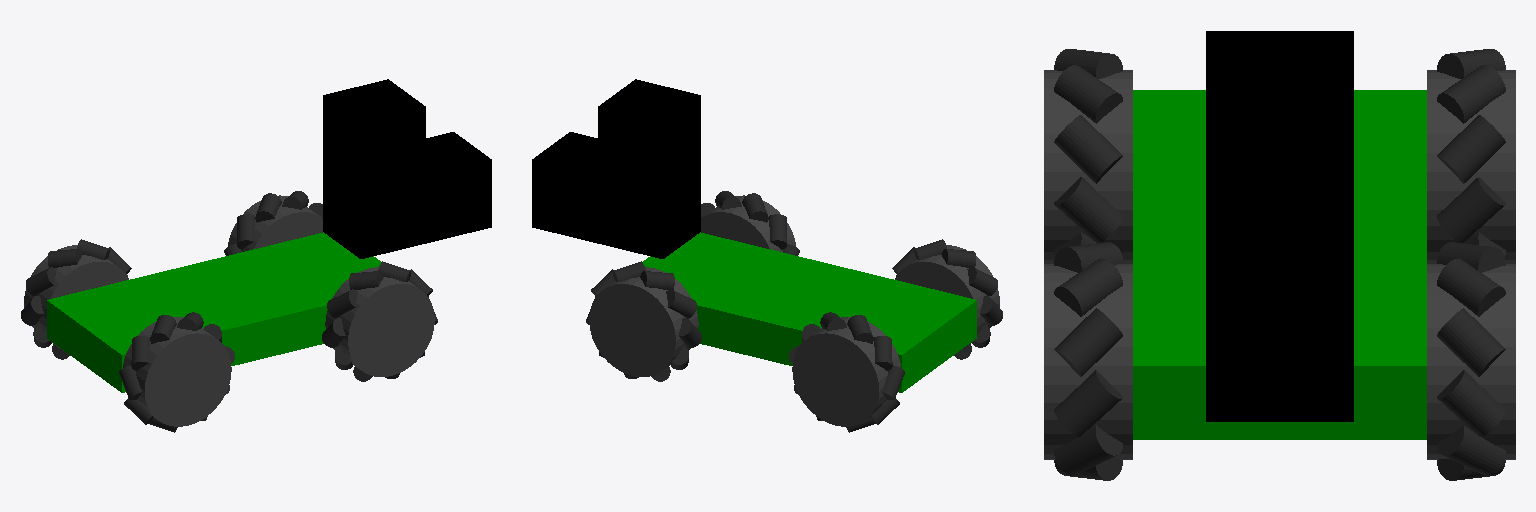
--- Facts derived from the render (not from the file) ---
3 views of the same robot in one strip: view 1: azimuth 30°, elevation 25°; view 2: azimuth 150°, elevation 25°; view 3: azimuth 270°, elevation 25° (orthographic).
Model omni_robot with 48 links and 47 joints (44 continuous, 3 fixed), rooted at base_link, posed every joint at zero.
Links seen in each view (by area): view 1: base_link, cam_up, BR_wheel, FR_wheel, cam, cam_dir, BL_wheel, FL_wheel, FR_roller_1, BL_roller_1, FL_roller_1, BR_roller_1 (+2 smaller); view 2: base_link, cam_up, BL_wheel, FL_wheel, cam, cam_dir, BR_wheel, FR_wheel, FL_roller_1, BR_roller_1, FR_roller_1, BL_roller_1 (+2 smaller); view 3: base_link, cam_up, cam_dir, FR_wheel, FL_wheel, BR_wheel, BL_wheel, BR_roller_4, BL_roller_4, FR_roller_5, FL_roller_5, FR_roller_4 (+15 smaller).
Boxes of the visible links, left/top/right/bottom form: base_link: left=47, top=232, right=380, bottom=392; cam_up: left=323, top=79, right=425, bottom=190; BR_wheel: left=123, top=317, right=231, bottom=426; FR_wheel: left=325, top=267, right=434, bottom=376; cam: left=323, top=164, right=425, bottom=258; cam_dir: left=426, top=132, right=491, bottom=243; BL_wheel: left=24, top=245, right=128, bottom=350; FL_wheel: left=228, top=195, right=322, bottom=251; FR_roller_1: left=327, top=289, right=357, bottom=318; BL_roller_1: left=26, top=267, right=56, bottom=295; FL_roller_1: left=237, top=214, right=255, bottom=249; BR_roller_1: left=131, top=336, right=149, bottom=370; base_link: left=643, top=232, right=976, bottom=392; cam_up: left=598, top=79, right=700, bottom=190; BL_wheel: left=792, top=317, right=900, bottom=426; FL_wheel: left=589, top=267, right=698, bottom=376; cam: left=598, top=164, right=700, bottom=258; cam_dir: left=532, top=132, right=597, bottom=243; BR_wheel: left=895, top=245, right=999, bottom=350; FR_wheel: left=701, top=195, right=795, bottom=251; FL_roller_1: left=666, top=289, right=696, bottom=318; BR_roller_1: left=967, top=267, right=997, bottom=295; FR_roller_1: left=768, top=214, right=786, bottom=249; BL_roller_1: left=874, top=336, right=892, bottom=370; base_link: left=1133, top=90, right=1426, bottom=439; cam_up: left=1206, top=31, right=1353, bottom=226; cam_dir: left=1206, top=227, right=1353, bottom=421; FR_wheel: left=1044, top=264, right=1132, bottom=459; FL_wheel: left=1427, top=264, right=1515, bottom=459; BR_wheel: left=1044, top=70, right=1132, bottom=263; BL_wheel: left=1427, top=70, right=1515, bottom=263; BR_roller_4: left=1054, top=115, right=1122, bottom=183; BL_roller_4: left=1437, top=115, right=1505, bottom=183; FR_roller_5: left=1054, top=370, right=1122, bottom=436; FL_roller_5: left=1437, top=370, right=1505, bottom=436; FR_roller_4: left=1054, top=308, right=1122, bottom=376.
Bounding box of the posed robot: 0.2735 × 0.144 × 0.1514 m (x, y, z).
Geometry: primitives only (box / cylinder / sphere), no mesh files.

robot.urdf — omni_robot:
<?xml version="1.0" ?>
<robot name="omni_robot">
  <material name="green">
    <color rgba="0.0 0.6 0.0 1"/>
  </material>
  <material name="blue">
    <color rgba="0.0 0.0 0.5 1"/>
  </material>
  <material name="transp">
    <color rgba="0.0 0.0 0.0 0"/>
  </material>
  <link name="base_link">
    <visual>
      <geometry>
        <box size="0.2 0.09 0.025"/>
      </geometry>
      <material name="green"/>
    </visual>
    <collision>
      <geometry>
        <box size="0.2 0.09 0.025"/>
      </geometry>
      <contact_coefficients mu="0.5"/>
    </collision>
    <inertial>
      <mass value="0.451"/>
      <inertia ixx="0.00032791458333333336" ixy="0.0" ixz="0.0" iyy="0.001526822916666667" iyz="0.0" izz="0.0018077583333333336"/>
    </inertial>
  </link>
  <link name="cam">
    <visual>
      <geometry>
        <box size="0.045 0.045 0.045"/>
      </geometry>
      <material name="transp"/>
    </visual>
    <inertial>
      <mass value="0.0"/>
      <inertia ixx="0.0" ixy="0.0" ixz="0.0" iyy="0.0" iyz="0.0" izz="0.0"/>
    </inertial>
  </link>
  <link name="cam_dir">
    <visual>
      <geometry>
        <box size="0.045 0.045 0.045"/>
      </geometry>
      <material name="transp"/>
    </visual>
    <inertial>
      <mass value="0.0"/>
      <inertia ixx="0.0" ixy="0.0" ixz="0.0" iyy="0.0" iyz="0.0" izz="0.0"/>
    </inertial>
  </link>
  <link name="cam_up">
    <visual>
      <geometry>
        <box size="0.045 0.045 0.045"/>
      </geometry>
      <material name="transp"/>
    </visual>
    <inertial>
      <mass value="0.0"/>
      <inertia ixx="0.0" ixy="0.0" ixz="0.0" iyy="0.0" iyz="0.0" izz="0.0"/>
    </inertial>
  </link>
  <joint name="base_link_to_cam" type="fixed">
    <parent link="base_link"/>
    <child link="cam"/>
    <origin xyz="0.1 0.0 0.0475"/>
  </joint>
  <!--A little trick to compute the view matrix in the simulation-->
  <joint name="cam_to_cam_dir" type="fixed">
    <parent link="cam"/>
    <child link="cam_dir"/>
    <origin xyz="0.045 0 0"/>
  </joint>
  <joint name="cam_to_cam_up" type="fixed">
    <parent link="cam"/>
    <child link="cam_up"/>
    <origin xyz="0 0 0.045"/>
  </joint>
  <material name="gray">
    <color rgba="0.2 0.2 0.2 1"/>
  </material>
  <material name="light_gray">
    <color rgba="0.3 0.3 0.3 1"/>
  </material>
  <link name="FR_wheel">
    <visual>
      <geometry>
        <cylinder length="0.027" radius="0.03"/>
      </geometry>
      <material name="light_gray"/>
      <origin rpy="0 0 0" xyz="0 0 0"/>
    </visual>
    <collision>
      <geometry>
        <cylinder length="0.027" radius="0.03"/>
      </geometry>
      <origin rpy="0 0.0 0" xyz="0 0 0"/>
      <contact_coefficients kd="0.5" mu="0.0"/>
    </collision>
    <inertial>
      <mass value="0.022"/>
      <inertia ixx="6.286500000000001e-06" ixy="0.0" ixz="0.0" iyy="6.286500000000001e-06" iyz="0.0" izz="9.899999999999998e-06"/>
    </inertial>
  </link>
  <link name="FR_roller_0">
    <visual>
      <geometry>
        <cylinder length="0.018" radius="0.006"/>
      </geometry>
      <material name="gray"/>
      <origin rpy="0.7853981633974483 0.0 0.0" xyz="0.0 0.0 0.0"/>
    </visual>
    <collision>
      <geometry>
        <cylinder length="0.018" radius="0.006"/>
      </geometry>
      <origin rpy="0.7853981633974483 0.0 0.0" xyz="0.0 0.0 0.0"/>
      <contact_coefficients kd="0.2" mu="0.5"/>
    </collision>
    <inertial>
      <mass value="0.0015"/>
      <inertia ixx="5.4e-08" ixy="0.0" ixz="0.0" iyy="5.4e-08" iyz="0.0" izz="2.7e-08"/>
    </inertial>
  </link>
  <joint name="FR_wheel_to_FR_roller_0" type="continuous">
    <parent link="FR_wheel"/>
    <child link="FR_roller_0"/>
    <origin rpy="0.0 0.0 0.0" xyz="0.03 0.0 0.0"/>
    <axis xyz="0 0.7071067811865476 -0.7071067811865476"/>
  </joint>
  <link name="FR_roller_1">
    <visual>
      <geometry>
        <cylinder length="0.018" radius="0.006"/>
      </geometry>
      <material name="gray"/>
      <origin rpy="0.7853981633974483 0.0 0.0" xyz="0.0 0.0 0.0"/>
    </visual>
    <collision>
      <geometry>
        <cylinder length="0.018" radius="0.006"/>
      </geometry>
      <origin rpy="0.7853981633974483 0.0 0.0" xyz="0.0 0.0 0.0"/>
      <contact_coefficients kd="0.2" mu="0.5"/>
    </collision>
    <inertial>
      <mass value="0.0015"/>
      <inertia ixx="5.4e-08" ixy="0.0" ixz="0.0" iyy="5.4e-08" iyz="0.0" izz="2.7e-08"/>
    </inertial>
  </link>
  <joint name="FR_wheel_to_FR_roller_1" type="continuous">
    <parent link="FR_wheel"/>
    <child link="FR_roller_1"/>
    <origin rpy="0.0 0.0 0.6283185307179586" xyz="0.024270509831248423 0.017633557568774192 0.0"/>
    <axis xyz="0 0.7071067811865476 -0.7071067811865476"/>
  </joint>
  <link name="FR_roller_2">
    <visual>
      <geometry>
        <cylinder length="0.018" radius="0.006"/>
      </geometry>
      <material name="gray"/>
      <origin rpy="0.7853981633974483 0.0 0.0" xyz="0.0 0.0 0.0"/>
    </visual>
    <collision>
      <geometry>
        <cylinder length="0.018" radius="0.006"/>
      </geometry>
      <origin rpy="0.7853981633974483 0.0 0.0" xyz="0.0 0.0 0.0"/>
      <contact_coefficients kd="0.2" mu="0.5"/>
    </collision>
    <inertial>
      <mass value="0.0015"/>
      <inertia ixx="5.4e-08" ixy="0.0" ixz="0.0" iyy="5.4e-08" iyz="0.0" izz="2.7e-08"/>
    </inertial>
  </link>
  <joint name="FR_wheel_to_FR_roller_2" type="continuous">
    <parent link="FR_wheel"/>
    <child link="FR_roller_2"/>
    <origin rpy="0.0 0.0 1.2566370614359172" xyz="0.009270509831248424 0.028531695488854605 0.0"/>
    <axis xyz="0 0.7071067811865476 -0.7071067811865476"/>
  </joint>
  <link name="FR_roller_3">
    <visual>
      <geometry>
        <cylinder length="0.018" radius="0.006"/>
      </geometry>
      <material name="gray"/>
      <origin rpy="0.7853981633974483 0.0 0.0" xyz="0.0 0.0 0.0"/>
    </visual>
    <collision>
      <geometry>
        <cylinder length="0.018" radius="0.006"/>
      </geometry>
      <origin rpy="0.7853981633974483 0.0 0.0" xyz="0.0 0.0 0.0"/>
      <contact_coefficients kd="0.2" mu="0.5"/>
    </collision>
    <inertial>
      <mass value="0.0015"/>
      <inertia ixx="5.4e-08" ixy="0.0" ixz="0.0" iyy="5.4e-08" iyz="0.0" izz="2.7e-08"/>
    </inertial>
  </link>
  <joint name="FR_wheel_to_FR_roller_3" type="continuous">
    <parent link="FR_wheel"/>
    <child link="FR_roller_3"/>
    <origin rpy="0.0 0.0 1.8849555921538759" xyz="-0.00927050983124842 0.02853169548885461 0.0"/>
    <axis xyz="0 0.7071067811865476 -0.7071067811865476"/>
  </joint>
  <link name="FR_roller_4">
    <visual>
      <geometry>
        <cylinder length="0.018" radius="0.006"/>
      </geometry>
      <material name="gray"/>
      <origin rpy="0.7853981633974483 0.0 0.0" xyz="0.0 0.0 0.0"/>
    </visual>
    <collision>
      <geometry>
        <cylinder length="0.018" radius="0.006"/>
      </geometry>
      <origin rpy="0.7853981633974483 0.0 0.0" xyz="0.0 0.0 0.0"/>
      <contact_coefficients kd="0.2" mu="0.5"/>
    </collision>
    <inertial>
      <mass value="0.0015"/>
      <inertia ixx="5.4e-08" ixy="0.0" ixz="0.0" iyy="5.4e-08" iyz="0.0" izz="2.7e-08"/>
    </inertial>
  </link>
  <joint name="FR_wheel_to_FR_roller_4" type="continuous">
    <parent link="FR_wheel"/>
    <child link="FR_roller_4"/>
    <origin rpy="0.0 0.0 2.5132741228718345" xyz="-0.02427050983124842 0.017633557568774196 0.0"/>
    <axis xyz="0 0.7071067811865476 -0.7071067811865476"/>
  </joint>
  <link name="FR_roller_5">
    <visual>
      <geometry>
        <cylinder length="0.018" radius="0.006"/>
      </geometry>
      <material name="gray"/>
      <origin rpy="0.7853981633974483 0.0 0.0" xyz="0.0 0.0 0.0"/>
    </visual>
    <collision>
      <geometry>
        <cylinder length="0.018" radius="0.006"/>
      </geometry>
      <origin rpy="0.7853981633974483 0.0 0.0" xyz="0.0 0.0 0.0"/>
      <contact_coefficients kd="0.2" mu="0.5"/>
    </collision>
    <inertial>
      <mass value="0.0015"/>
      <inertia ixx="5.4e-08" ixy="0.0" ixz="0.0" iyy="5.4e-08" iyz="0.0" izz="2.7e-08"/>
    </inertial>
  </link>
  <joint name="FR_wheel_to_FR_roller_5" type="continuous">
    <parent link="FR_wheel"/>
    <child link="FR_roller_5"/>
    <origin rpy="0.0 0.0 3.141592653589793" xyz="-0.03 3.673940397442059e-18 0.0"/>
    <axis xyz="0 0.7071067811865476 -0.7071067811865476"/>
  </joint>
  <link name="FR_roller_6">
    <visual>
      <geometry>
        <cylinder length="0.018" radius="0.006"/>
      </geometry>
      <material name="gray"/>
      <origin rpy="0.7853981633974483 0.0 0.0" xyz="0.0 0.0 0.0"/>
    </visual>
    <collision>
      <geometry>
        <cylinder length="0.018" radius="0.006"/>
      </geometry>
      <origin rpy="0.7853981633974483 0.0 0.0" xyz="0.0 0.0 0.0"/>
      <contact_coefficients kd="0.2" mu="0.5"/>
    </collision>
    <inertial>
      <mass value="0.0015"/>
      <inertia ixx="5.4e-08" ixy="0.0" ixz="0.0" iyy="5.4e-08" iyz="0.0" izz="2.7e-08"/>
    </inertial>
  </link>
  <joint name="FR_wheel_to_FR_roller_6" type="continuous">
    <parent link="FR_wheel"/>
    <child link="FR_roller_6"/>
    <origin rpy="0.0 0.0 3.7699111843077517" xyz="-0.024270509831248423 -0.01763355756877419 0.0"/>
    <axis xyz="0 0.7071067811865476 -0.7071067811865476"/>
  </joint>
  <link name="FR_roller_7">
    <visual>
      <geometry>
        <cylinder length="0.018" radius="0.006"/>
      </geometry>
      <material name="gray"/>
      <origin rpy="0.7853981633974483 0.0 0.0" xyz="0.0 0.0 0.0"/>
    </visual>
    <collision>
      <geometry>
        <cylinder length="0.018" radius="0.006"/>
      </geometry>
      <origin rpy="0.7853981633974483 0.0 0.0" xyz="0.0 0.0 0.0"/>
      <contact_coefficients kd="0.2" mu="0.5"/>
    </collision>
    <inertial>
      <mass value="0.0015"/>
      <inertia ixx="5.4e-08" ixy="0.0" ixz="0.0" iyy="5.4e-08" iyz="0.0" izz="2.7e-08"/>
    </inertial>
  </link>
  <joint name="FR_wheel_to_FR_roller_7" type="continuous">
    <parent link="FR_wheel"/>
    <child link="FR_roller_7"/>
    <origin rpy="0.0 0.0 4.39822971502571" xyz="-0.009270509831248426 -0.028531695488854605 0.0"/>
    <axis xyz="0 0.7071067811865476 -0.7071067811865476"/>
  </joint>
  <link name="FR_roller_8">
    <visual>
      <geometry>
        <cylinder length="0.018" radius="0.006"/>
      </geometry>
      <material name="gray"/>
      <origin rpy="0.7853981633974483 0.0 0.0" xyz="0.0 0.0 0.0"/>
    </visual>
    <collision>
      <geometry>
        <cylinder length="0.018" radius="0.006"/>
      </geometry>
      <origin rpy="0.7853981633974483 0.0 0.0" xyz="0.0 0.0 0.0"/>
      <contact_coefficients kd="0.2" mu="0.5"/>
    </collision>
    <inertial>
      <mass value="0.0015"/>
      <inertia ixx="5.4e-08" ixy="0.0" ixz="0.0" iyy="5.4e-08" iyz="0.0" izz="2.7e-08"/>
    </inertial>
  </link>
  <joint name="FR_wheel_to_FR_roller_8" type="continuous">
    <parent link="FR_wheel"/>
    <child link="FR_roller_8"/>
    <origin rpy="0.0 0.0 5.026548245743669" xyz="0.009270509831248417 -0.02853169548885461 0.0"/>
    <axis xyz="0 0.7071067811865476 -0.7071067811865476"/>
  </joint>
  <link name="FR_roller_9">
    <visual>
      <geometry>
        <cylinder length="0.018" radius="0.006"/>
      </geometry>
      <material name="gray"/>
      <origin rpy="0.7853981633974483 0.0 0.0" xyz="0.0 0.0 0.0"/>
    </visual>
    <collision>
      <geometry>
        <cylinder length="0.018" radius="0.006"/>
      </geometry>
      <origin rpy="0.7853981633974483 0.0 0.0" xyz="0.0 0.0 0.0"/>
      <contact_coefficients kd="0.2" mu="0.5"/>
    </collision>
    <inertial>
      <mass value="0.0015"/>
      <inertia ixx="5.4e-08" ixy="0.0" ixz="0.0" iyy="5.4e-08" iyz="0.0" izz="2.7e-08"/>
    </inertial>
  </link>
  <joint name="FR_wheel_to_FR_roller_9" type="continuous">
    <parent link="FR_wheel"/>
    <child link="FR_roller_9"/>
    <origin rpy="0.0 0.0 5.654866776461628" xyz="0.02427050983124842 -0.0176335575687742 0.0"/>
    <axis xyz="0 0.7071067811865476 -0.7071067811865476"/>
  </joint>
  <joint name="base_link_to_FR_wheel" type="continuous">
    <parent link="base_link"/>
    <child link="FR_wheel"/>
    <origin rpy="1.5707963267948966 0.0 3.141592653589793" xyz="0.07 -0.058499999999999996 0.0"/>
    <axis xyz="0 0 1"/>
  </joint>
  <link name="FL_wheel">
    <visual>
      <geometry>
        <cylinder length="0.027" radius="0.03"/>
      </geometry>
      <material name="light_gray"/>
      <origin rpy="0 0 0" xyz="0 0 0"/>
    </visual>
    <collision>
      <geometry>
        <cylinder length="0.027" radius="0.03"/>
      </geometry>
      <origin rpy="0 0.0 0" xyz="0 0 0"/>
      <contact_coefficients kd="0.5" mu="0.0"/>
    </collision>
    <inertial>
      <mass value="0.022"/>
      <inertia ixx="6.286500000000001e-06" ixy="0.0" ixz="0.0" iyy="6.286500000000001e-06" iyz="0.0" izz="9.899999999999998e-06"/>
    </inertial>
  </link>
  <link name="FL_roller_0">
    <visual>
      <geometry>
        <cylinder length="0.018" radius="0.006"/>
      </geometry>
      <material name="gray"/>
      <origin rpy="-0.7853981633974483 0.0 0.0" xyz="0.0 0.0 0.0"/>
    </visual>
    <collision>
      <geometry>
        <cylinder length="0.018" radius="0.006"/>
      </geometry>
      <origin rpy="-0.7853981633974483 0.0 0.0" xyz="0.0 0.0 0.0"/>
      <contact_coefficients kd="0.2" mu="0.5"/>
    </collision>
    <inertial>
      <mass value="0.0015"/>
      <inertia ixx="5.4e-08" ixy="0.0" ixz="0.0" iyy="5.4e-08" iyz="0.0" izz="2.7e-08"/>
    </inertial>
  </link>
  <joint name="FL_wheel_to_FL_roller_0" type="continuous">
    <parent link="FL_wheel"/>
    <child link="FL_roller_0"/>
    <origin rpy="0.0 0.0 0.0" xyz="0.03 0.0 0.0"/>
    <axis xyz="0 0.7071067811865476 0.7071067811865476"/>
  </joint>
  <link name="FL_roller_1">
    <visual>
      <geometry>
        <cylinder length="0.018" radius="0.006"/>
      </geometry>
      <material name="gray"/>
      <origin rpy="-0.7853981633974483 0.0 0.0" xyz="0.0 0.0 0.0"/>
    </visual>
    <collision>
      <geometry>
        <cylinder length="0.018" radius="0.006"/>
      </geometry>
      <origin rpy="-0.7853981633974483 0.0 0.0" xyz="0.0 0.0 0.0"/>
      <contact_coefficients kd="0.2" mu="0.5"/>
    </collision>
    <inertial>
      <mass value="0.0015"/>
      <inertia ixx="5.4e-08" ixy="0.0" ixz="0.0" iyy="5.4e-08" iyz="0.0" izz="2.7e-08"/>
    </inertial>
  </link>
  <joint name="FL_wheel_to_FL_roller_1" type="continuous">
    <parent link="FL_wheel"/>
    <child link="FL_roller_1"/>
    <origin rpy="0.0 0.0 0.6283185307179586" xyz="0.024270509831248423 0.017633557568774192 0.0"/>
    <axis xyz="0 0.7071067811865476 0.7071067811865476"/>
  </joint>
  <link name="FL_roller_2">
    <visual>
      <geometry>
        <cylinder length="0.018" radius="0.006"/>
      </geometry>
      <material name="gray"/>
      <origin rpy="-0.7853981633974483 0.0 0.0" xyz="0.0 0.0 0.0"/>
    </visual>
    <collision>
      <geometry>
        <cylinder length="0.018" radius="0.006"/>
      </geometry>
      <origin rpy="-0.7853981633974483 0.0 0.0" xyz="0.0 0.0 0.0"/>
      <contact_coefficients kd="0.2" mu="0.5"/>
    </collision>
    <inertial>
      <mass value="0.0015"/>
      <inertia ixx="5.4e-08" ixy="0.0" ixz="0.0" iyy="5.4e-08" iyz="0.0" izz="2.7e-08"/>
    </inertial>
  </link>
  <joint name="FL_wheel_to_FL_roller_2" type="continuous">
    <parent link="FL_wheel"/>
    <child link="FL_roller_2"/>
    <origin rpy="0.0 0.0 1.2566370614359172" xyz="0.009270509831248424 0.028531695488854605 0.0"/>
    <axis xyz="0 0.7071067811865476 0.7071067811865476"/>
  </joint>
  <link name="FL_roller_3">
    <visual>
      <geometry>
        <cylinder length="0.018" radius="0.006"/>
      </geometry>
      <material name="gray"/>
      <origin rpy="-0.7853981633974483 0.0 0.0" xyz="0.0 0.0 0.0"/>
    </visual>
    <collision>
      <geometry>
        <cylinder length="0.018" radius="0.006"/>
      </geometry>
      <origin rpy="-0.7853981633974483 0.0 0.0" xyz="0.0 0.0 0.0"/>
      <contact_coefficients kd="0.2" mu="0.5"/>
    </collision>
    <inertial>
      <mass value="0.0015"/>
      <inertia ixx="5.4e-08" ixy="0.0" ixz="0.0" iyy="5.4e-08" iyz="0.0" izz="2.7e-08"/>
    </inertial>
  </link>
  <joint name="FL_wheel_to_FL_roller_3" type="continuous">
    <parent link="FL_wheel"/>
    <child link="FL_roller_3"/>
    <origin rpy="0.0 0.0 1.8849555921538759" xyz="-0.00927050983124842 0.02853169548885461 0.0"/>
    <axis xyz="0 0.7071067811865476 0.7071067811865476"/>
  </joint>
  <link name="FL_roller_4">
    <visual>
      <geometry>
        <cylinder length="0.018" radius="0.006"/>
      </geometry>
      <material name="gray"/>
      <origin rpy="-0.7853981633974483 0.0 0.0" xyz="0.0 0.0 0.0"/>
    </visual>
    <collision>
      <geometry>
        <cylinder length="0.018" radius="0.006"/>
      </geometry>
      <origin rpy="-0.7853981633974483 0.0 0.0" xyz="0.0 0.0 0.0"/>
      <contact_coefficients kd="0.2" mu="0.5"/>
    </collision>
    <inertial>
      <mass value="0.0015"/>
      <inertia ixx="5.4e-08" ixy="0.0" ixz="0.0" iyy="5.4e-08" iyz="0.0" izz="2.7e-08"/>
    </inertial>
  </link>
  <joint name="FL_wheel_to_FL_roller_4" type="continuous">
    <parent link="FL_wheel"/>
    <child link="FL_roller_4"/>
    <origin rpy="0.0 0.0 2.5132741228718345" xyz="-0.02427050983124842 0.017633557568774196 0.0"/>
    <axis xyz="0 0.7071067811865476 0.7071067811865476"/>
  </joint>
  <link name="FL_roller_5">
    <visual>
      <geometry>
        <cylinder length="0.018" radius="0.006"/>
      </geometry>
      <material name="gray"/>
      <origin rpy="-0.7853981633974483 0.0 0.0" xyz="0.0 0.0 0.0"/>
    </visual>
    <collision>
      <geometry>
        <cylinder length="0.018" radius="0.006"/>
      </geometry>
      <origin rpy="-0.7853981633974483 0.0 0.0" xyz="0.0 0.0 0.0"/>
      <contact_coefficients kd="0.2" mu="0.5"/>
    </collision>
    <inertial>
      <mass value="0.0015"/>
      <inertia ixx="5.4e-08" ixy="0.0" ixz="0.0" iyy="5.4e-08" iyz="0.0" izz="2.7e-08"/>
    </inertial>
  </link>
  <joint name="FL_wheel_to_FL_roller_5" type="continuous">
    <parent link="FL_wheel"/>
    <child link="FL_roller_5"/>
    <origin rpy="0.0 0.0 3.141592653589793" xyz="-0.03 3.673940397442059e-18 0.0"/>
    <axis xyz="0 0.7071067811865476 0.7071067811865476"/>
  </joint>
  <link name="FL_roller_6">
    <visual>
      <geometry>
        <cylinder length="0.018" radius="0.006"/>
      </geometry>
      <material name="gray"/>
      <origin rpy="-0.7853981633974483 0.0 0.0" xyz="0.0 0.0 0.0"/>
    </visual>
    <collision>
      <geometry>
        <cylinder length="0.018" radius="0.006"/>
      </geometry>
      <origin rpy="-0.7853981633974483 0.0 0.0" xyz="0.0 0.0 0.0"/>
      <contact_coefficients kd="0.2" mu="0.5"/>
    </collision>
    <inertial>
      <mass value="0.0015"/>
      <inertia ixx="5.4e-08" ixy="0.0" ixz="0.0" iyy="5.4e-08" iyz="0.0" izz="2.7e-08"/>
    </inertial>
  </link>
  <joint name="FL_wheel_to_FL_roller_6" type="continuous">
    <parent link="FL_wheel"/>
    <child link="FL_roller_6"/>
    <origin rpy="0.0 0.0 3.7699111843077517" xyz="-0.024270509831248423 -0.01763355756877419 0.0"/>
    <axis xyz="0 0.7071067811865476 0.7071067811865476"/>
  </joint>
  <link name="FL_roller_7">
    <visual>
      <geometry>
        <cylinder length="0.018" radius="0.006"/>
      </geometry>
      <material name="gray"/>
      <origin rpy="-0.7853981633974483 0.0 0.0" xyz="0.0 0.0 0.0"/>
    </visual>
    <collision>
      <geometry>
        <cylinder length="0.018" radius="0.006"/>
      </geometry>
      <origin rpy="-0.7853981633974483 0.0 0.0" xyz="0.0 0.0 0.0"/>
      <contact_coefficients kd="0.2" mu="0.5"/>
    </collision>
    <inertial>
      <mass value="0.0015"/>
      <inertia ixx="5.4e-08" ixy="0.0" ixz="0.0" iyy="5.4e-08" iyz="0.0" izz="2.7e-08"/>
    </inertial>
  </link>
  <joint name="FL_wheel_to_FL_roller_7" type="continuous">
    <parent link="FL_wheel"/>
    <child link="FL_roller_7"/>
    <origin rpy="0.0 0.0 4.39822971502571" xyz="-0.009270509831248426 -0.028531695488854605 0.0"/>
    <axis xyz="0 0.7071067811865476 0.7071067811865476"/>
  </joint>
  <link name="FL_roller_8">
    <visual>
      <geometry>
        <cylinder length="0.018" radius="0.006"/>
      </geometry>
      <material name="gray"/>
      <origin rpy="-0.7853981633974483 0.0 0.0" xyz="0.0 0.0 0.0"/>
    </visual>
    <collision>
      <geometry>
        <cylinder length="0.018" radius="0.006"/>
      </geometry>
      <origin rpy="-0.7853981633974483 0.0 0.0" xyz="0.0 0.0 0.0"/>
      <contact_coefficients kd="0.2" mu="0.5"/>
    </collision>
    <inertial>
      <mass value="0.0015"/>
      <inertia ixx="5.4e-08" ixy="0.0" ixz="0.0" iyy="5.4e-08" iyz="0.0" izz="2.7e-08"/>
    </inertial>
  </link>
  <joint name="FL_wheel_to_FL_roller_8" type="continuous">
    <parent link="FL_wheel"/>
    <child link="FL_roller_8"/>
    <origin rpy="0.0 0.0 5.026548245743669" xyz="0.009270509831248417 -0.02853169548885461 0.0"/>
    <axis xyz="0 0.7071067811865476 0.7071067811865476"/>
  </joint>
  <link name="FL_roller_9">
    <visual>
      <geometry>
        <cylinder length="0.018" radius="0.006"/>
      </geometry>
      <material name="gray"/>
      <origin rpy="-0.7853981633974483 0.0 0.0" xyz="0.0 0.0 0.0"/>
    </visual>
    <collision>
      <geometry>
        <cylinder length="0.018" radius="0.006"/>
      </geometry>
      <origin rpy="-0.7853981633974483 0.0 0.0" xyz="0.0 0.0 0.0"/>
      <contact_coefficients kd="0.2" mu="0.5"/>
    </collision>
    <inertial>
      <mass value="0.0015"/>
      <inertia ixx="5.4e-08" ixy="0.0" ixz="0.0" iyy="5.4e-08" iyz="0.0" izz="2.7e-08"/>
    </inertial>
  </link>
  <joint name="FL_wheel_to_FL_roller_9" type="continuous">
    <parent link="FL_wheel"/>
    <child link="FL_roller_9"/>
    <origin rpy="0.0 0.0 5.654866776461628" xyz="0.02427050983124842 -0.0176335575687742 0.0"/>
    <axis xyz="0 0.7071067811865476 0.7071067811865476"/>
  </joint>
  <joint name="base_link_to_FL_wheel" type="continuous">
    <parent link="base_link"/>
    <child link="FL_wheel"/>
    <origin rpy="1.5707963267948966 0.0 3.141592653589793" xyz="0.07 0.058499999999999996 0.0"/>
    <axis xyz="0 0 1"/>
  </joint>
  <link name="BR_wheel">
    <visual>
      <geometry>
        <cylinder length="0.027" radius="0.03"/>
      </geometry>
      <material name="light_gray"/>
      <origin rpy="0 0 0" xyz="0 0 0"/>
    </visual>
    <collision>
      <geometry>
        <cylinder length="0.027" radius="0.03"/>
      </geometry>
      <origin rpy="0 0.0 0" xyz="0 0 0"/>
      <contact_coefficients kd="0.5" mu="0.0"/>
    </collision>
    <inertial>
      <mass value="0.022"/>
      <inertia ixx="6.286500000000001e-06" ixy="0.0" ixz="0.0" iyy="6.286500000000001e-06" iyz="0.0" izz="9.899999999999998e-06"/>
    </inertial>
  </link>
  <link name="BR_roller_0">
    <visual>
      <geometry>
        <cylinder length="0.018" radius="0.006"/>
      </geometry>
      <material name="gray"/>
      <origin rpy="-0.7853981633974483 0.0 0.0" xyz="0.0 0.0 0.0"/>
    </visual>
    <collision>
      <geometry>
        <cylinder length="0.018" radius="0.006"/>
      </geometry>
      <origin rpy="-0.7853981633974483 0.0 0.0" xyz="0.0 0.0 0.0"/>
      <contact_coefficients kd="0.2" mu="0.5"/>
    </collision>
    <inertial>
      <mass value="0.0015"/>
      <inertia ixx="5.4e-08" ixy="0.0" ixz="0.0" iyy="5.4e-08" iyz="0.0" izz="2.7e-08"/>
    </inertial>
  </link>
  <joint name="BR_wheel_to_BR_roller_0" type="continuous">
    <parent link="BR_wheel"/>
    <child link="BR_roller_0"/>
    <origin rpy="0.0 0.0 0.0" xyz="0.03 0.0 0.0"/>
    <axis xyz="0 0.7071067811865476 0.7071067811865476"/>
  </joint>
  <link name="BR_roller_1">
    <visual>
      <geometry>
        <cylinder length="0.018" radius="0.006"/>
      </geometry>
      <material name="gray"/>
      <origin rpy="-0.7853981633974483 0.0 0.0" xyz="0.0 0.0 0.0"/>
    </visual>
    <collision>
      <geometry>
        <cylinder length="0.018" radius="0.006"/>
      </geometry>
      <origin rpy="-0.7853981633974483 0.0 0.0" xyz="0.0 0.0 0.0"/>
      <contact_coefficients kd="0.2" mu="0.5"/>
    </collision>
    <inertial>
      <mass value="0.0015"/>
      <inertia ixx="5.4e-08" ixy="0.0" ixz="0.0" iyy="5.4e-08" iyz="0.0" izz="2.7e-08"/>
    </inertial>
  </link>
  <joint name="BR_wheel_to_BR_roller_1" type="continuous">
    <parent link="BR_wheel"/>
    <child link="BR_roller_1"/>
    <origin rpy="0.0 0.0 0.6283185307179586" xyz="0.024270509831248423 0.017633557568774192 0.0"/>
    <axis xyz="0 0.7071067811865476 0.7071067811865476"/>
  </joint>
  <link name="BR_roller_2">
    <visual>
      <geometry>
        <cylinder length="0.018" radius="0.006"/>
      </geometry>
      <material name="gray"/>
      <origin rpy="-0.7853981633974483 0.0 0.0" xyz="0.0 0.0 0.0"/>
    </visual>
    <collision>
      <geometry>
        <cylinder length="0.018" radius="0.006"/>
      </geometry>
      <origin rpy="-0.7853981633974483 0.0 0.0" xyz="0.0 0.0 0.0"/>
      <contact_coefficients kd="0.2" mu="0.5"/>
    </collision>
    <inertial>
      <mass value="0.0015"/>
      <inertia ixx="5.4e-08" ixy="0.0" ixz="0.0" iyy="5.4e-08" iyz="0.0" izz="2.7e-08"/>
    </inertial>
  </link>
  <joint name="BR_wheel_to_BR_roller_2" type="continuous">
    <parent link="BR_wheel"/>
    <child link="BR_roller_2"/>
    <origin rpy="0.0 0.0 1.2566370614359172" xyz="0.009270509831248424 0.028531695488854605 0.0"/>
    <axis xyz="0 0.7071067811865476 0.7071067811865476"/>
  </joint>
  <link name="BR_roller_3">
    <visual>
      <geometry>
        <cylinder length="0.018" radius="0.006"/>
      </geometry>
      <material name="gray"/>
      <origin rpy="-0.7853981633974483 0.0 0.0" xyz="0.0 0.0 0.0"/>
    </visual>
    <collision>
      <geometry>
        <cylinder length="0.018" radius="0.006"/>
      </geometry>
      <origin rpy="-0.7853981633974483 0.0 0.0" xyz="0.0 0.0 0.0"/>
      <contact_coefficients kd="0.2" mu="0.5"/>
    </collision>
    <inertial>
      <mass value="0.0015"/>
      <inertia ixx="5.4e-08" ixy="0.0" ixz="0.0" iyy="5.4e-08" iyz="0.0" izz="2.7e-08"/>
    </inertial>
  </link>
  <joint name="BR_wheel_to_BR_roller_3" type="continuous">
    <parent link="BR_wheel"/>
    <child link="BR_roller_3"/>
    <origin rpy="0.0 0.0 1.8849555921538759" xyz="-0.00927050983124842 0.02853169548885461 0.0"/>
    <axis xyz="0 0.7071067811865476 0.7071067811865476"/>
  </joint>
  <link name="BR_roller_4">
    <visual>
      <geometry>
        <cylinder length="0.018" radius="0.006"/>
      </geometry>
      <material name="gray"/>
      <origin rpy="-0.7853981633974483 0.0 0.0" xyz="0.0 0.0 0.0"/>
    </visual>
    <collision>
      <geometry>
        <cylinder length="0.018" radius="0.006"/>
      </geometry>
      <origin rpy="-0.7853981633974483 0.0 0.0" xyz="0.0 0.0 0.0"/>
      <contact_coefficients kd="0.2" mu="0.5"/>
    </collision>
    <inertial>
      <mass value="0.0015"/>
      <inertia ixx="5.4e-08" ixy="0.0" ixz="0.0" iyy="5.4e-08" iyz="0.0" izz="2.7e-08"/>
    </inertial>
  </link>
  <joint name="BR_wheel_to_BR_roller_4" type="continuous">
    <parent link="BR_wheel"/>
    <child link="BR_roller_4"/>
    <origin rpy="0.0 0.0 2.5132741228718345" xyz="-0.02427050983124842 0.017633557568774196 0.0"/>
    <axis xyz="0 0.7071067811865476 0.7071067811865476"/>
  </joint>
  <link name="BR_roller_5">
    <visual>
      <geometry>
        <cylinder length="0.018" radius="0.006"/>
      </geometry>
      <material name="gray"/>
      <origin rpy="-0.7853981633974483 0.0 0.0" xyz="0.0 0.0 0.0"/>
    </visual>
    <collision>
      <geometry>
        <cylinder length="0.018" radius="0.006"/>
      </geometry>
      <origin rpy="-0.7853981633974483 0.0 0.0" xyz="0.0 0.0 0.0"/>
      <contact_coefficients kd="0.2" mu="0.5"/>
    </collision>
    <inertial>
      <mass value="0.0015"/>
      <inertia ixx="5.4e-08" ixy="0.0" ixz="0.0" iyy="5.4e-08" iyz="0.0" izz="2.7e-08"/>
    </inertial>
  </link>
  <joint name="BR_wheel_to_BR_roller_5" type="continuous">
    <parent link="BR_wheel"/>
    <child link="BR_roller_5"/>
    <origin rpy="0.0 0.0 3.141592653589793" xyz="-0.03 3.673940397442059e-18 0.0"/>
    <axis xyz="0 0.7071067811865476 0.7071067811865476"/>
  </joint>
  <link name="BR_roller_6">
    <visual>
      <geometry>
        <cylinder length="0.018" radius="0.006"/>
      </geometry>
      <material name="gray"/>
      <origin rpy="-0.7853981633974483 0.0 0.0" xyz="0.0 0.0 0.0"/>
    </visual>
    <collision>
      <geometry>
        <cylinder length="0.018" radius="0.006"/>
      </geometry>
      <origin rpy="-0.7853981633974483 0.0 0.0" xyz="0.0 0.0 0.0"/>
      <contact_coefficients kd="0.2" mu="0.5"/>
    </collision>
    <inertial>
      <mass value="0.0015"/>
      <inertia ixx="5.4e-08" ixy="0.0" ixz="0.0" iyy="5.4e-08" iyz="0.0" izz="2.7e-08"/>
    </inertial>
  </link>
  <joint name="BR_wheel_to_BR_roller_6" type="continuous">
    <parent link="BR_wheel"/>
    <child link="BR_roller_6"/>
    <origin rpy="0.0 0.0 3.7699111843077517" xyz="-0.024270509831248423 -0.01763355756877419 0.0"/>
    <axis xyz="0 0.7071067811865476 0.7071067811865476"/>
  </joint>
  <link name="BR_roller_7">
    <visual>
      <geometry>
        <cylinder length="0.018" radius="0.006"/>
      </geometry>
      <material name="gray"/>
      <origin rpy="-0.7853981633974483 0.0 0.0" xyz="0.0 0.0 0.0"/>
    </visual>
    <collision>
      <geometry>
        <cylinder length="0.018" radius="0.006"/>
      </geometry>
      <origin rpy="-0.7853981633974483 0.0 0.0" xyz="0.0 0.0 0.0"/>
      <contact_coefficients kd="0.2" mu="0.5"/>
    </collision>
    <inertial>
      <mass value="0.0015"/>
      <inertia ixx="5.4e-08" ixy="0.0" ixz="0.0" iyy="5.4e-08" iyz="0.0" izz="2.7e-08"/>
    </inertial>
  </link>
  <joint name="BR_wheel_to_BR_roller_7" type="continuous">
    <parent link="BR_wheel"/>
    <child link="BR_roller_7"/>
    <origin rpy="0.0 0.0 4.39822971502571" xyz="-0.009270509831248426 -0.028531695488854605 0.0"/>
    <axis xyz="0 0.7071067811865476 0.7071067811865476"/>
  </joint>
  <link name="BR_roller_8">
    <visual>
      <geometry>
        <cylinder length="0.018" radius="0.006"/>
      </geometry>
      <material name="gray"/>
      <origin rpy="-0.7853981633974483 0.0 0.0" xyz="0.0 0.0 0.0"/>
    </visual>
    <collision>
      <geometry>
        <cylinder length="0.018" radius="0.006"/>
      </geometry>
      <origin rpy="-0.7853981633974483 0.0 0.0" xyz="0.0 0.0 0.0"/>
      <contact_coefficients kd="0.2" mu="0.5"/>
    </collision>
    <inertial>
      <mass value="0.0015"/>
      <inertia ixx="5.4e-08" ixy="0.0" ixz="0.0" iyy="5.4e-08" iyz="0.0" izz="2.7e-08"/>
    </inertial>
  </link>
  <joint name="BR_wheel_to_BR_roller_8" type="continuous">
    <parent link="BR_wheel"/>
    <child link="BR_roller_8"/>
    <origin rpy="0.0 0.0 5.026548245743669" xyz="0.009270509831248417 -0.02853169548885461 0.0"/>
    <axis xyz="0 0.7071067811865476 0.7071067811865476"/>
  </joint>
  <link name="BR_roller_9">
    <visual>
      <geometry>
        <cylinder length="0.018" radius="0.006"/>
      </geometry>
      <material name="gray"/>
      <origin rpy="-0.7853981633974483 0.0 0.0" xyz="0.0 0.0 0.0"/>
    </visual>
    <collision>
      <geometry>
        <cylinder length="0.018" radius="0.006"/>
      </geometry>
      <origin rpy="-0.7853981633974483 0.0 0.0" xyz="0.0 0.0 0.0"/>
      <contact_coefficients kd="0.2" mu="0.5"/>
    </collision>
    <inertial>
      <mass value="0.0015"/>
      <inertia ixx="5.4e-08" ixy="0.0" ixz="0.0" iyy="5.4e-08" iyz="0.0" izz="2.7e-08"/>
    </inertial>
  </link>
  <joint name="BR_wheel_to_BR_roller_9" type="continuous">
    <parent link="BR_wheel"/>
    <child link="BR_roller_9"/>
    <origin rpy="0.0 0.0 5.654866776461628" xyz="0.02427050983124842 -0.0176335575687742 0.0"/>
    <axis xyz="0 0.7071067811865476 0.7071067811865476"/>
  </joint>
  <joint name="base_link_to_BR_wheel" type="continuous">
    <parent link="base_link"/>
    <child link="BR_wheel"/>
    <origin rpy="1.5707963267948966 0.0 3.141592653589793" xyz="-0.07 -0.058499999999999996 0.0"/>
    <axis xyz="0 0 1"/>
  </joint>
  <link name="BL_wheel">
    <visual>
      <geometry>
        <cylinder length="0.027" radius="0.03"/>
      </geometry>
      <material name="light_gray"/>
      <origin rpy="0 0 0" xyz="0 0 0"/>
    </visual>
    <collision>
      <geometry>
        <cylinder length="0.027" radius="0.03"/>
      </geometry>
      <origin rpy="0 0.0 0" xyz="0 0 0"/>
      <contact_coefficients kd="0.5" mu="0.0"/>
    </collision>
    <inertial>
      <mass value="0.022"/>
      <inertia ixx="6.286500000000001e-06" ixy="0.0" ixz="0.0" iyy="6.286500000000001e-06" iyz="0.0" izz="9.899999999999998e-06"/>
    </inertial>
  </link>
  <link name="BL_roller_0">
    <visual>
      <geometry>
        <cylinder length="0.018" radius="0.006"/>
      </geometry>
      <material name="gray"/>
      <origin rpy="0.7853981633974483 0.0 0.0" xyz="0.0 0.0 0.0"/>
    </visual>
    <collision>
      <geometry>
        <cylinder length="0.018" radius="0.006"/>
      </geometry>
      <origin rpy="0.7853981633974483 0.0 0.0" xyz="0.0 0.0 0.0"/>
      <contact_coefficients kd="0.2" mu="0.5"/>
    </collision>
    <inertial>
      <mass value="0.0015"/>
      <inertia ixx="5.4e-08" ixy="0.0" ixz="0.0" iyy="5.4e-08" iyz="0.0" izz="2.7e-08"/>
    </inertial>
  </link>
  <joint name="BL_wheel_to_BL_roller_0" type="continuous">
    <parent link="BL_wheel"/>
    <child link="BL_roller_0"/>
    <origin rpy="0.0 0.0 0.0" xyz="0.03 0.0 0.0"/>
    <axis xyz="0 0.7071067811865476 -0.7071067811865476"/>
  </joint>
  <link name="BL_roller_1">
    <visual>
      <geometry>
        <cylinder length="0.018" radius="0.006"/>
      </geometry>
      <material name="gray"/>
      <origin rpy="0.7853981633974483 0.0 0.0" xyz="0.0 0.0 0.0"/>
    </visual>
    <collision>
      <geometry>
        <cylinder length="0.018" radius="0.006"/>
      </geometry>
      <origin rpy="0.7853981633974483 0.0 0.0" xyz="0.0 0.0 0.0"/>
      <contact_coefficients kd="0.2" mu="0.5"/>
    </collision>
    <inertial>
      <mass value="0.0015"/>
      <inertia ixx="5.4e-08" ixy="0.0" ixz="0.0" iyy="5.4e-08" iyz="0.0" izz="2.7e-08"/>
    </inertial>
  </link>
  <joint name="BL_wheel_to_BL_roller_1" type="continuous">
    <parent link="BL_wheel"/>
    <child link="BL_roller_1"/>
    <origin rpy="0.0 0.0 0.6283185307179586" xyz="0.024270509831248423 0.017633557568774192 0.0"/>
    <axis xyz="0 0.7071067811865476 -0.7071067811865476"/>
  </joint>
  <link name="BL_roller_2">
    <visual>
      <geometry>
        <cylinder length="0.018" radius="0.006"/>
      </geometry>
      <material name="gray"/>
      <origin rpy="0.7853981633974483 0.0 0.0" xyz="0.0 0.0 0.0"/>
    </visual>
    <collision>
      <geometry>
        <cylinder length="0.018" radius="0.006"/>
      </geometry>
      <origin rpy="0.7853981633974483 0.0 0.0" xyz="0.0 0.0 0.0"/>
      <contact_coefficients kd="0.2" mu="0.5"/>
    </collision>
    <inertial>
      <mass value="0.0015"/>
      <inertia ixx="5.4e-08" ixy="0.0" ixz="0.0" iyy="5.4e-08" iyz="0.0" izz="2.7e-08"/>
    </inertial>
  </link>
  <joint name="BL_wheel_to_BL_roller_2" type="continuous">
    <parent link="BL_wheel"/>
    <child link="BL_roller_2"/>
    <origin rpy="0.0 0.0 1.2566370614359172" xyz="0.009270509831248424 0.028531695488854605 0.0"/>
    <axis xyz="0 0.7071067811865476 -0.7071067811865476"/>
  </joint>
  <link name="BL_roller_3">
    <visual>
      <geometry>
        <cylinder length="0.018" radius="0.006"/>
      </geometry>
      <material name="gray"/>
      <origin rpy="0.7853981633974483 0.0 0.0" xyz="0.0 0.0 0.0"/>
    </visual>
    <collision>
      <geometry>
        <cylinder length="0.018" radius="0.006"/>
      </geometry>
      <origin rpy="0.7853981633974483 0.0 0.0" xyz="0.0 0.0 0.0"/>
      <contact_coefficients kd="0.2" mu="0.5"/>
    </collision>
    <inertial>
      <mass value="0.0015"/>
      <inertia ixx="5.4e-08" ixy="0.0" ixz="0.0" iyy="5.4e-08" iyz="0.0" izz="2.7e-08"/>
    </inertial>
  </link>
  <joint name="BL_wheel_to_BL_roller_3" type="continuous">
    <parent link="BL_wheel"/>
    <child link="BL_roller_3"/>
    <origin rpy="0.0 0.0 1.8849555921538759" xyz="-0.00927050983124842 0.02853169548885461 0.0"/>
    <axis xyz="0 0.7071067811865476 -0.7071067811865476"/>
  </joint>
  <link name="BL_roller_4">
    <visual>
      <geometry>
        <cylinder length="0.018" radius="0.006"/>
      </geometry>
      <material name="gray"/>
      <origin rpy="0.7853981633974483 0.0 0.0" xyz="0.0 0.0 0.0"/>
    </visual>
    <collision>
      <geometry>
        <cylinder length="0.018" radius="0.006"/>
      </geometry>
      <origin rpy="0.7853981633974483 0.0 0.0" xyz="0.0 0.0 0.0"/>
      <contact_coefficients kd="0.2" mu="0.5"/>
    </collision>
    <inertial>
      <mass value="0.0015"/>
      <inertia ixx="5.4e-08" ixy="0.0" ixz="0.0" iyy="5.4e-08" iyz="0.0" izz="2.7e-08"/>
    </inertial>
  </link>
  <joint name="BL_wheel_to_BL_roller_4" type="continuous">
    <parent link="BL_wheel"/>
    <child link="BL_roller_4"/>
    <origin rpy="0.0 0.0 2.5132741228718345" xyz="-0.02427050983124842 0.017633557568774196 0.0"/>
    <axis xyz="0 0.7071067811865476 -0.7071067811865476"/>
  </joint>
  <link name="BL_roller_5">
    <visual>
      <geometry>
        <cylinder length="0.018" radius="0.006"/>
      </geometry>
      <material name="gray"/>
      <origin rpy="0.7853981633974483 0.0 0.0" xyz="0.0 0.0 0.0"/>
    </visual>
    <collision>
      <geometry>
        <cylinder length="0.018" radius="0.006"/>
      </geometry>
      <origin rpy="0.7853981633974483 0.0 0.0" xyz="0.0 0.0 0.0"/>
      <contact_coefficients kd="0.2" mu="0.5"/>
    </collision>
    <inertial>
      <mass value="0.0015"/>
      <inertia ixx="5.4e-08" ixy="0.0" ixz="0.0" iyy="5.4e-08" iyz="0.0" izz="2.7e-08"/>
    </inertial>
  </link>
  <joint name="BL_wheel_to_BL_roller_5" type="continuous">
    <parent link="BL_wheel"/>
    <child link="BL_roller_5"/>
    <origin rpy="0.0 0.0 3.141592653589793" xyz="-0.03 3.673940397442059e-18 0.0"/>
    <axis xyz="0 0.7071067811865476 -0.7071067811865476"/>
  </joint>
  <link name="BL_roller_6">
    <visual>
      <geometry>
        <cylinder length="0.018" radius="0.006"/>
      </geometry>
      <material name="gray"/>
      <origin rpy="0.7853981633974483 0.0 0.0" xyz="0.0 0.0 0.0"/>
    </visual>
    <collision>
      <geometry>
        <cylinder length="0.018" radius="0.006"/>
      </geometry>
      <origin rpy="0.7853981633974483 0.0 0.0" xyz="0.0 0.0 0.0"/>
      <contact_coefficients kd="0.2" mu="0.5"/>
    </collision>
    <inertial>
      <mass value="0.0015"/>
      <inertia ixx="5.4e-08" ixy="0.0" ixz="0.0" iyy="5.4e-08" iyz="0.0" izz="2.7e-08"/>
    </inertial>
  </link>
  <joint name="BL_wheel_to_BL_roller_6" type="continuous">
    <parent link="BL_wheel"/>
    <child link="BL_roller_6"/>
    <origin rpy="0.0 0.0 3.7699111843077517" xyz="-0.024270509831248423 -0.01763355756877419 0.0"/>
    <axis xyz="0 0.7071067811865476 -0.7071067811865476"/>
  </joint>
  <link name="BL_roller_7">
    <visual>
      <geometry>
        <cylinder length="0.018" radius="0.006"/>
      </geometry>
      <material name="gray"/>
      <origin rpy="0.7853981633974483 0.0 0.0" xyz="0.0 0.0 0.0"/>
    </visual>
    <collision>
      <geometry>
        <cylinder length="0.018" radius="0.006"/>
      </geometry>
      <origin rpy="0.7853981633974483 0.0 0.0" xyz="0.0 0.0 0.0"/>
      <contact_coefficients kd="0.2" mu="0.5"/>
    </collision>
    <inertial>
      <mass value="0.0015"/>
      <inertia ixx="5.4e-08" ixy="0.0" ixz="0.0" iyy="5.4e-08" iyz="0.0" izz="2.7e-08"/>
    </inertial>
  </link>
  <joint name="BL_wheel_to_BL_roller_7" type="continuous">
    <parent link="BL_wheel"/>
    <child link="BL_roller_7"/>
    <origin rpy="0.0 0.0 4.39822971502571" xyz="-0.009270509831248426 -0.028531695488854605 0.0"/>
    <axis xyz="0 0.7071067811865476 -0.7071067811865476"/>
  </joint>
  <link name="BL_roller_8">
    <visual>
      <geometry>
        <cylinder length="0.018" radius="0.006"/>
      </geometry>
      <material name="gray"/>
      <origin rpy="0.7853981633974483 0.0 0.0" xyz="0.0 0.0 0.0"/>
    </visual>
    <collision>
      <geometry>
        <cylinder length="0.018" radius="0.006"/>
      </geometry>
      <origin rpy="0.7853981633974483 0.0 0.0" xyz="0.0 0.0 0.0"/>
      <contact_coefficients kd="0.2" mu="0.5"/>
    </collision>
    <inertial>
      <mass value="0.0015"/>
      <inertia ixx="5.4e-08" ixy="0.0" ixz="0.0" iyy="5.4e-08" iyz="0.0" izz="2.7e-08"/>
    </inertial>
  </link>
  <joint name="BL_wheel_to_BL_roller_8" type="continuous">
    <parent link="BL_wheel"/>
    <child link="BL_roller_8"/>
    <origin rpy="0.0 0.0 5.026548245743669" xyz="0.009270509831248417 -0.02853169548885461 0.0"/>
    <axis xyz="0 0.7071067811865476 -0.7071067811865476"/>
  </joint>
  <link name="BL_roller_9">
    <visual>
      <geometry>
        <cylinder length="0.018" radius="0.006"/>
      </geometry>
      <material name="gray"/>
      <origin rpy="0.7853981633974483 0.0 0.0" xyz="0.0 0.0 0.0"/>
    </visual>
    <collision>
      <geometry>
        <cylinder length="0.018" radius="0.006"/>
      </geometry>
      <origin rpy="0.7853981633974483 0.0 0.0" xyz="0.0 0.0 0.0"/>
      <contact_coefficients kd="0.2" mu="0.5"/>
    </collision>
    <inertial>
      <mass value="0.0015"/>
      <inertia ixx="5.4e-08" ixy="0.0" ixz="0.0" iyy="5.4e-08" iyz="0.0" izz="2.7e-08"/>
    </inertial>
  </link>
  <joint name="BL_wheel_to_BL_roller_9" type="continuous">
    <parent link="BL_wheel"/>
    <child link="BL_roller_9"/>
    <origin rpy="0.0 0.0 5.654866776461628" xyz="0.02427050983124842 -0.0176335575687742 0.0"/>
    <axis xyz="0 0.7071067811865476 -0.7071067811865476"/>
  </joint>
  <joint name="base_link_to_BL_wheel" type="continuous">
    <parent link="base_link"/>
    <child link="BL_wheel"/>
    <origin rpy="1.5707963267948966 0.0 3.141592653589793" xyz="-0.07 0.058499999999999996 0.0"/>
    <axis xyz="0 0 1"/>
  </joint>
</robot>
